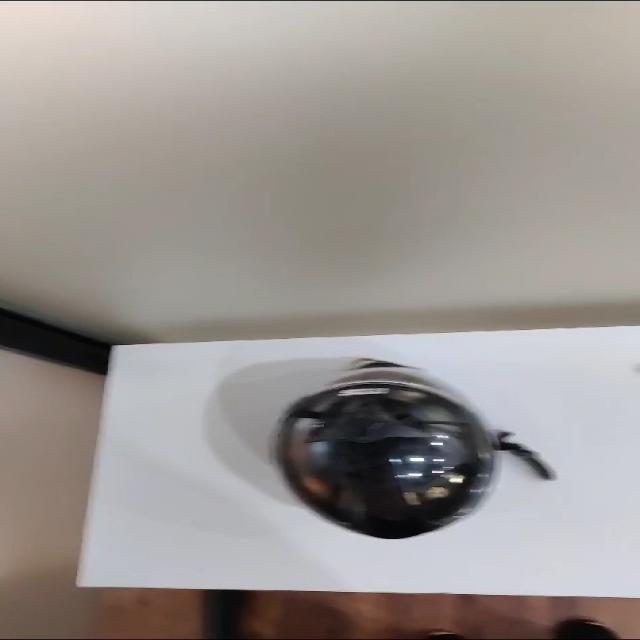helmet: (275, 360, 554, 538)
